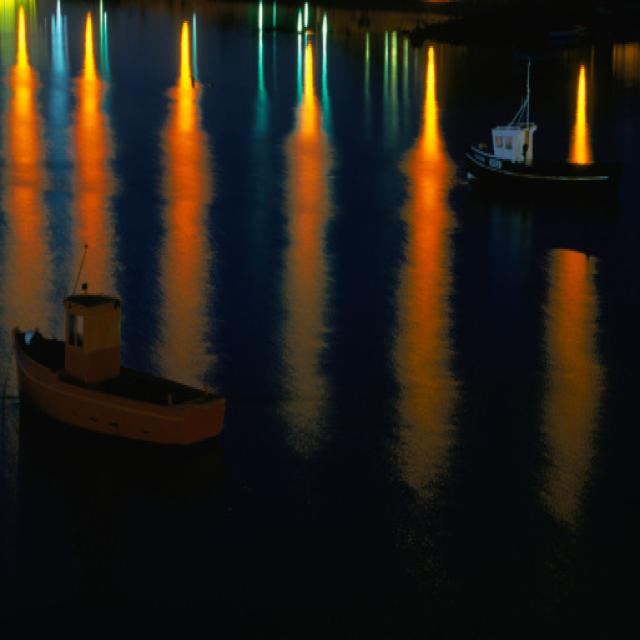Boat: (13, 290, 260, 497), (461, 84, 639, 249)
